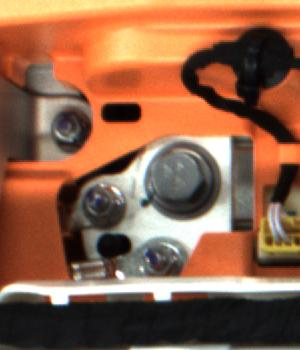nut_b: (139, 139, 222, 222)
screw_s: (45, 104, 84, 148), (85, 184, 124, 224), (139, 243, 178, 279)
